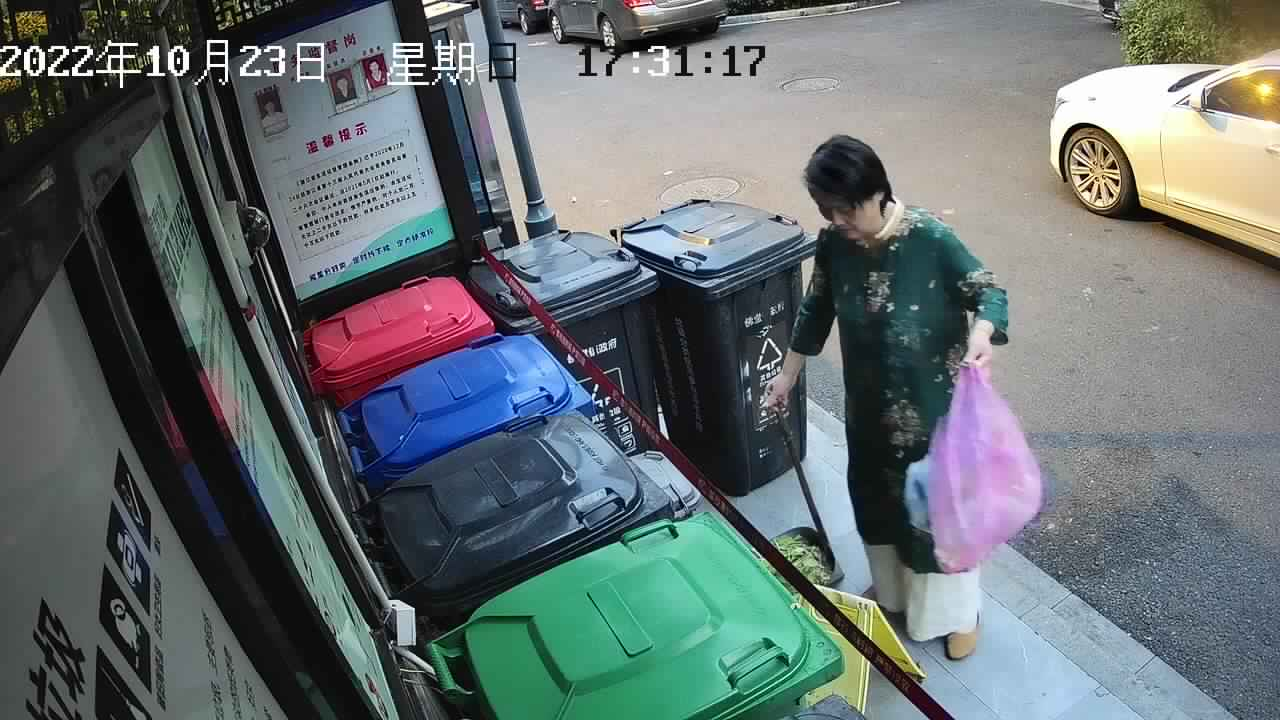garbage-bag: (919, 355, 1046, 579)
person: (761, 129, 1018, 666)
